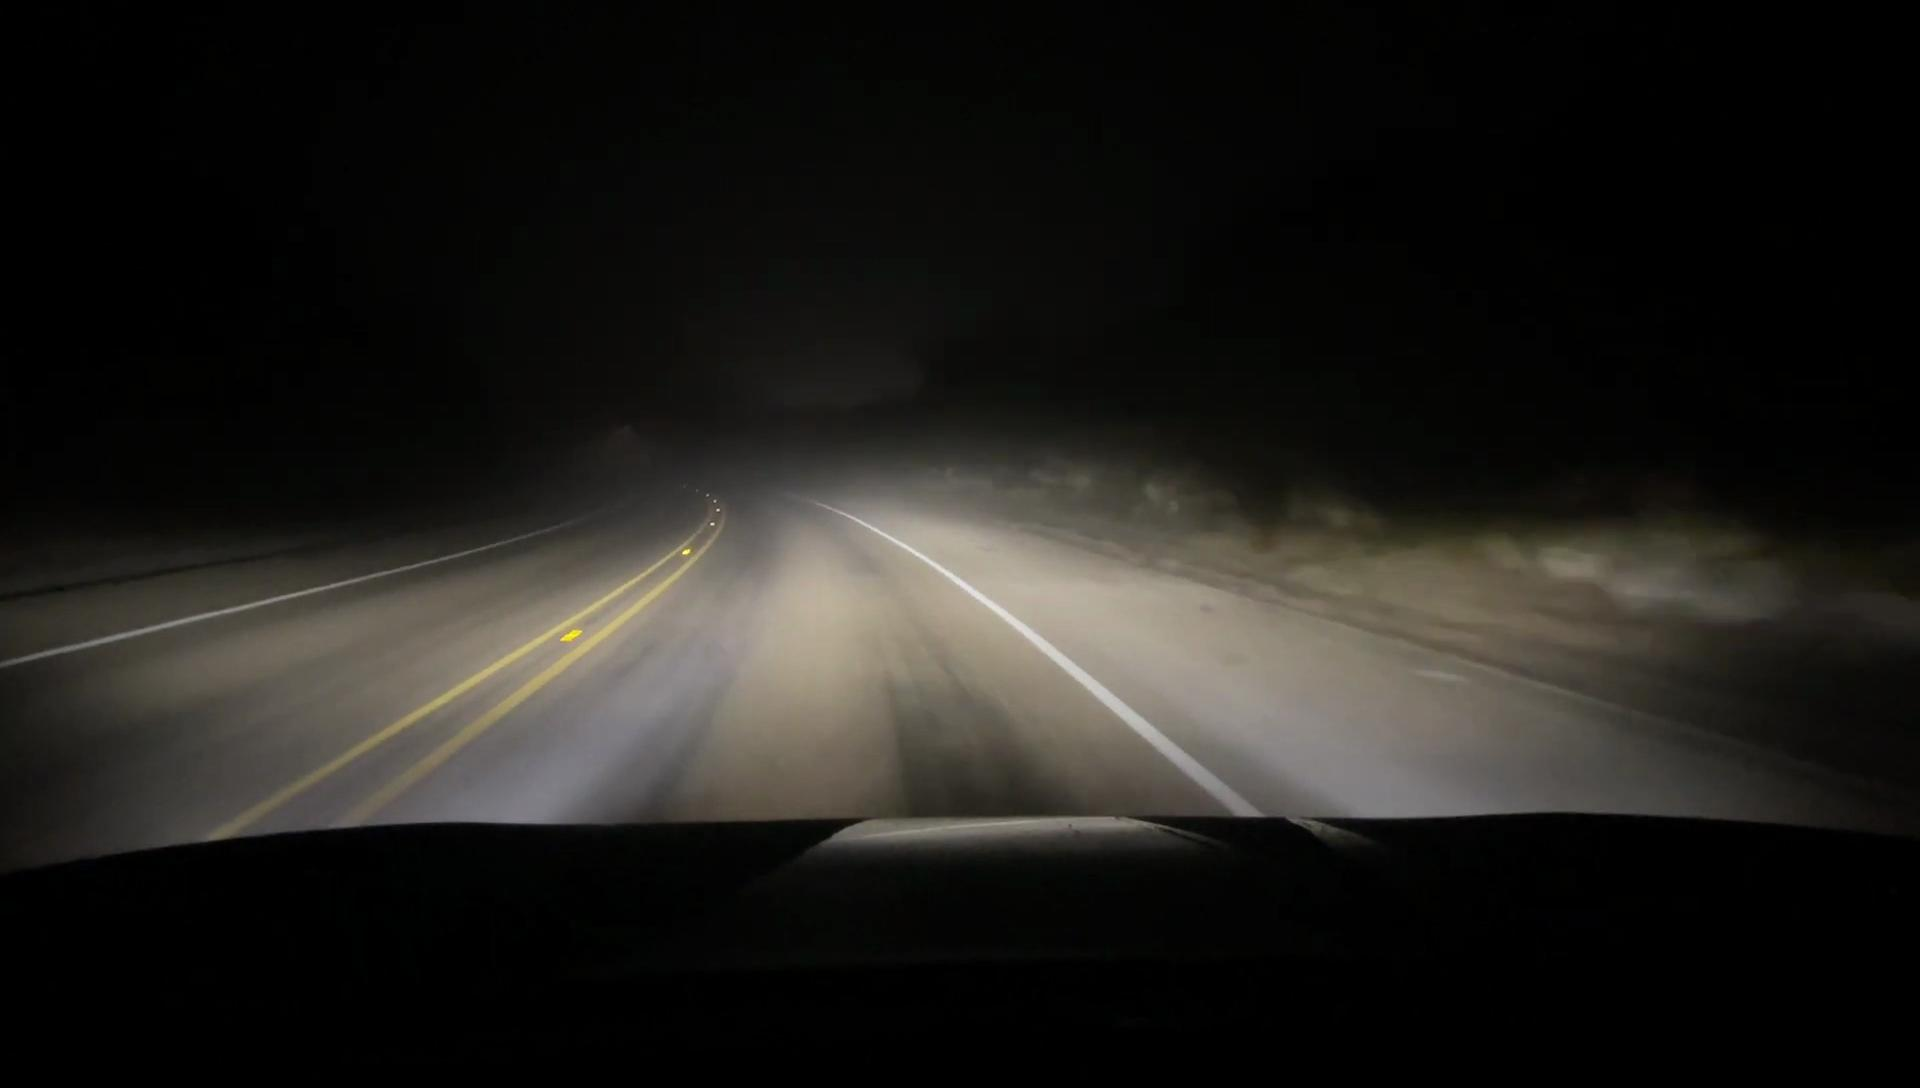road-lanes: (410, 501, 1221, 808)
